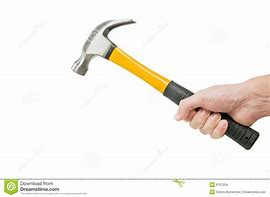hammer: (69, 16, 262, 152)
